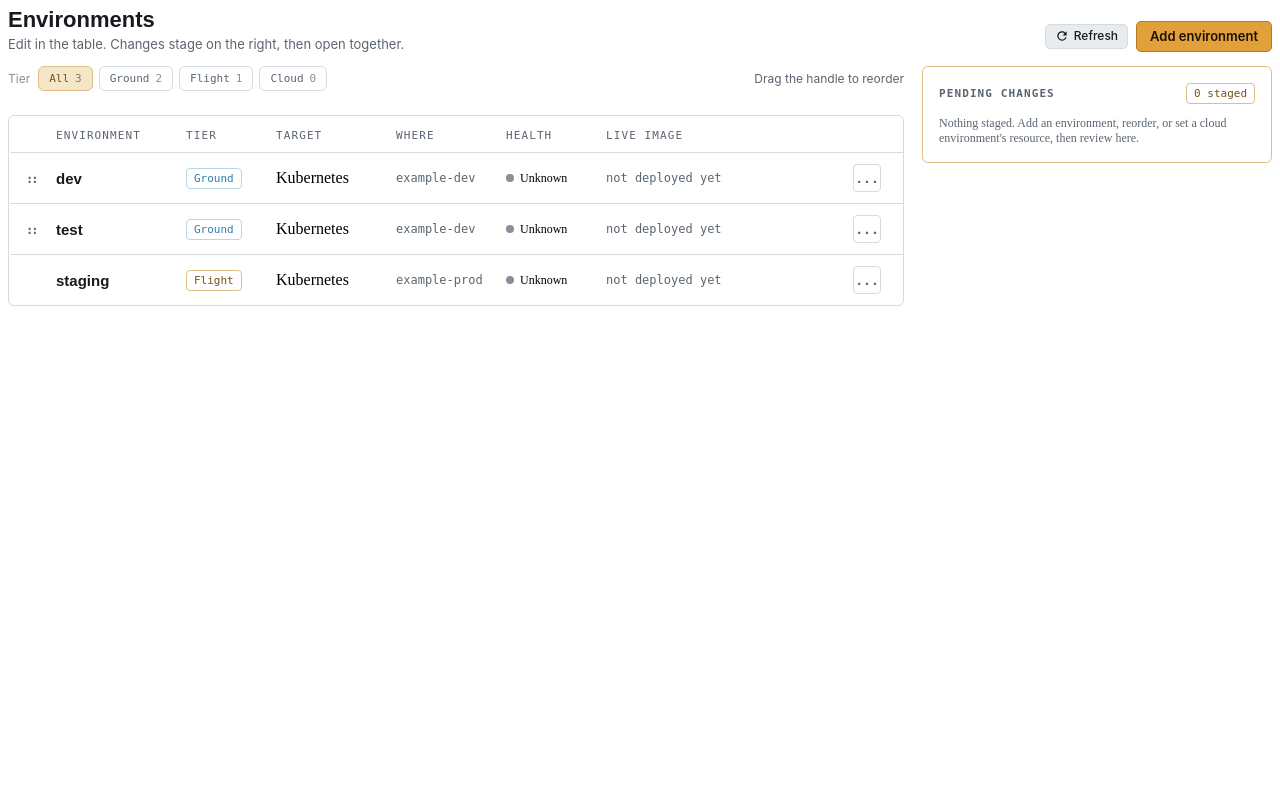
EnvironmentsTab: staging a Ground environment › refuses a duplicate name before it can be staged
The image size is (1280, 800).
Click the button "Add environment" at (1204, 36), box [1136, 21, 1272, 52]
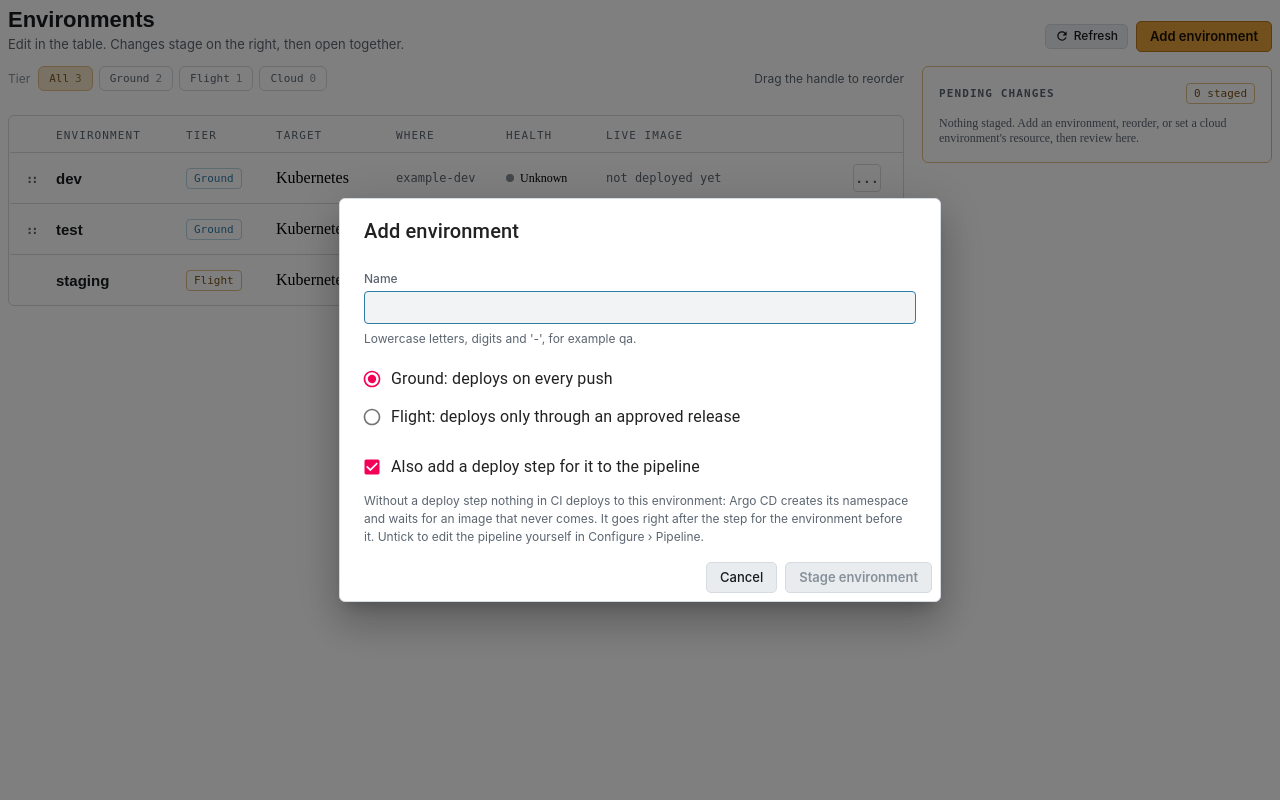
Type "dev" into the field labelled "Name" at (640, 307), box [364, 291, 916, 324]
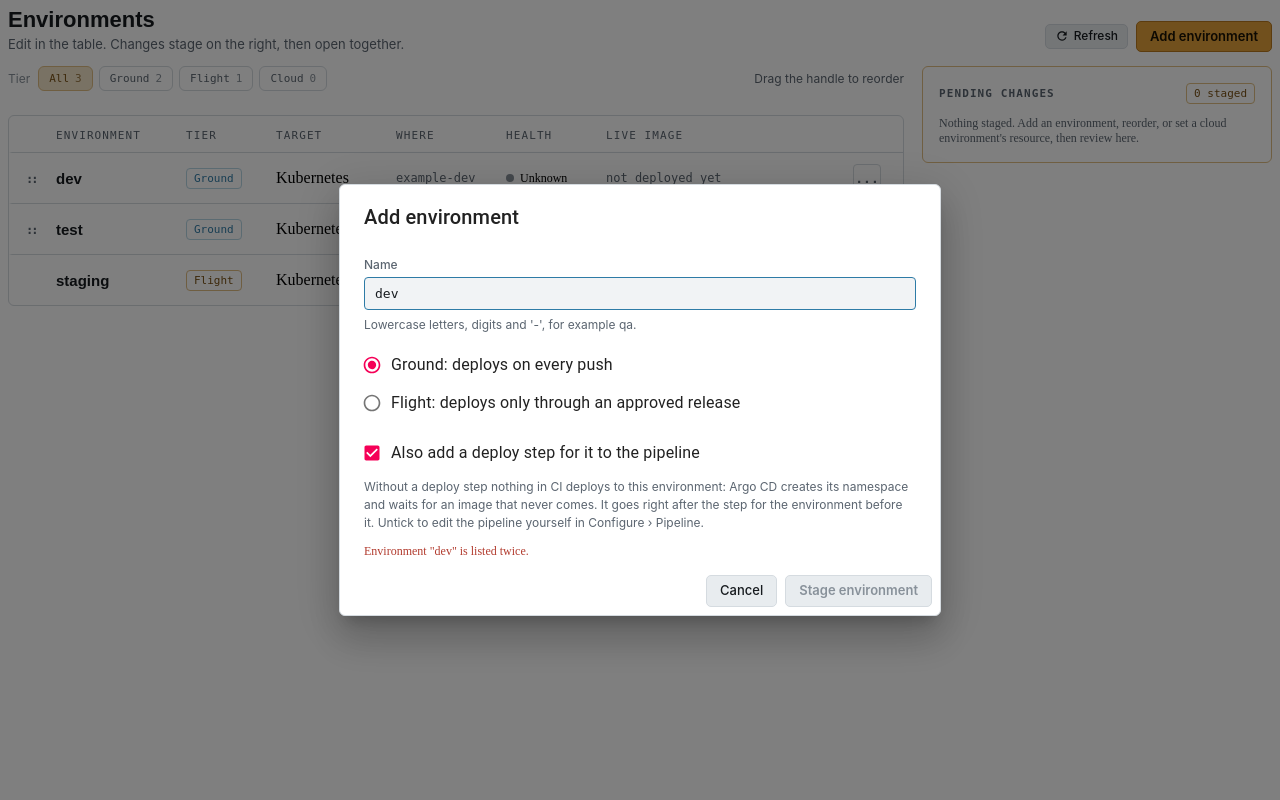
Check: the button "Stage environment" is disabled, box [785, 575, 932, 607]
Check: the text "Environment \"dev\" is listed twice." is shown, box [364, 544, 529, 558]
